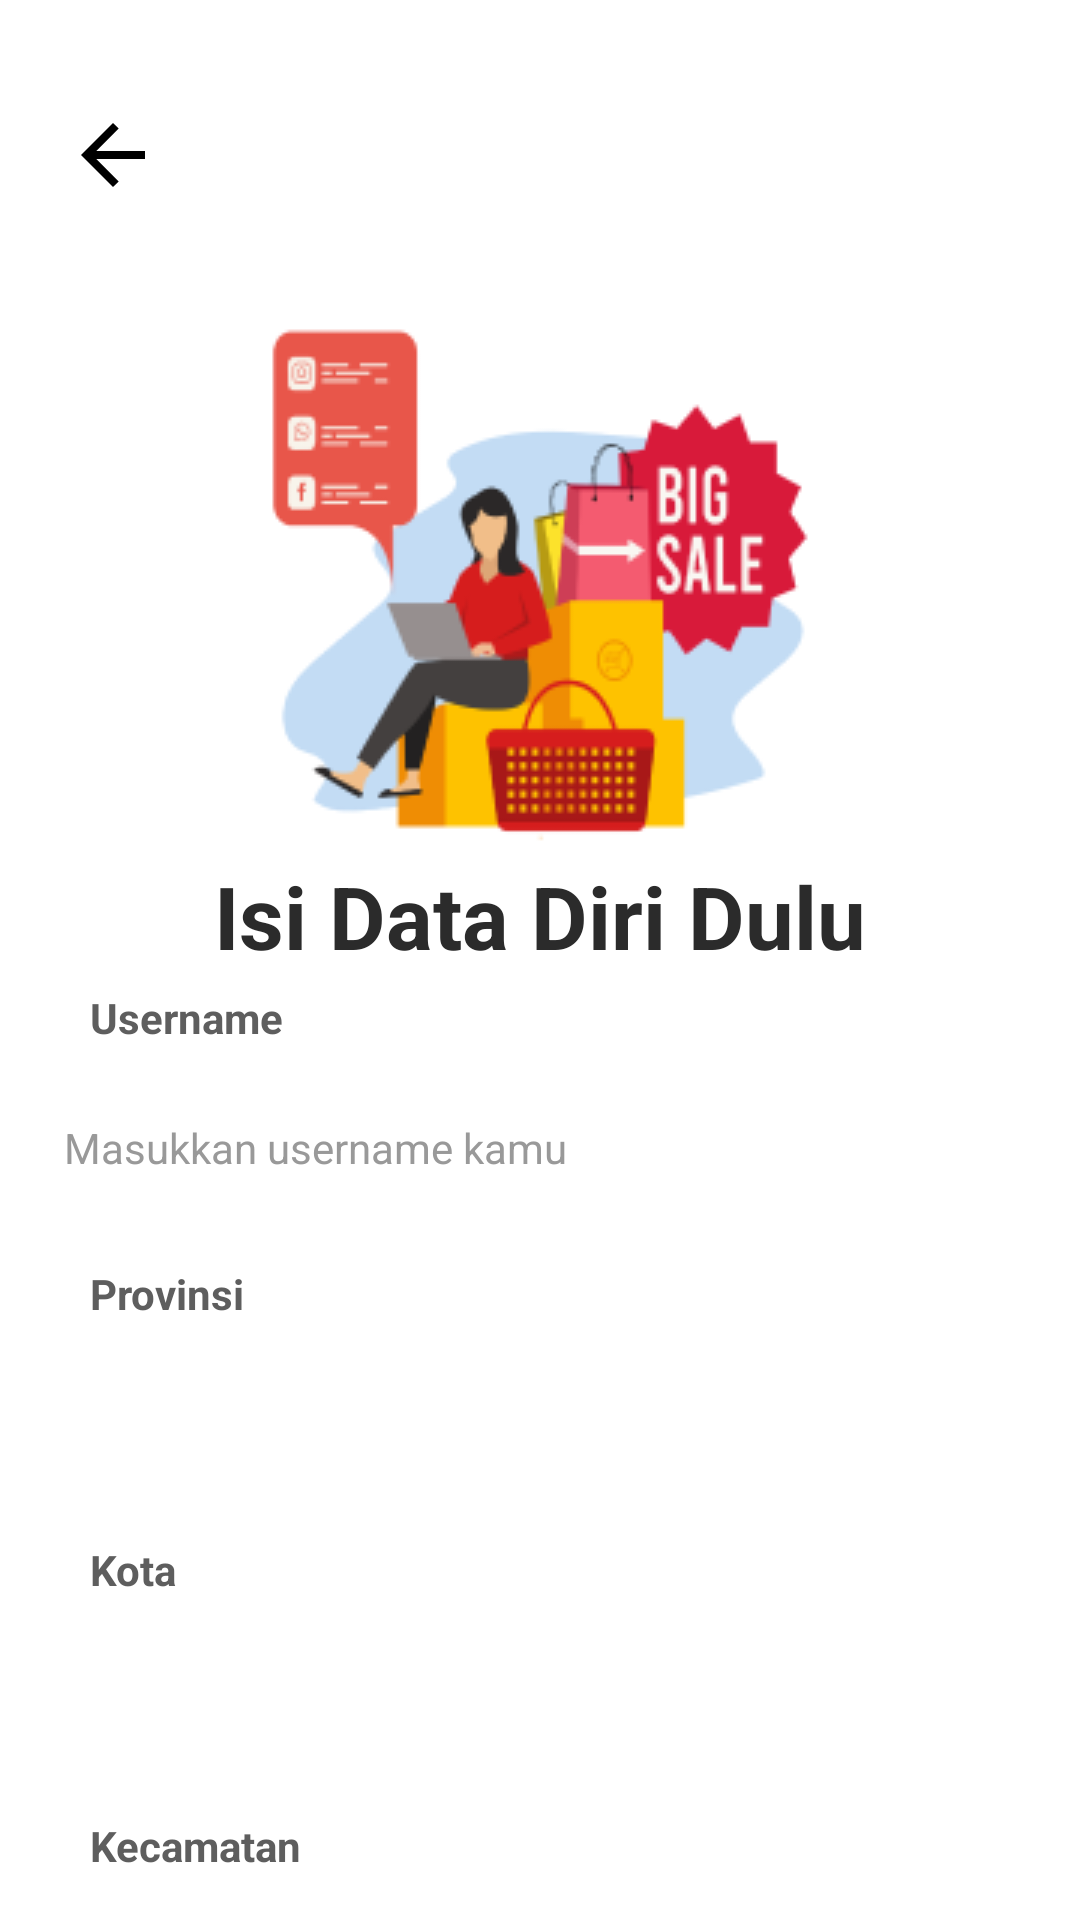

Named icons in this screenshot (1080w x 1920h) and their centers, point (x, y):
arrow: point (113, 155)
